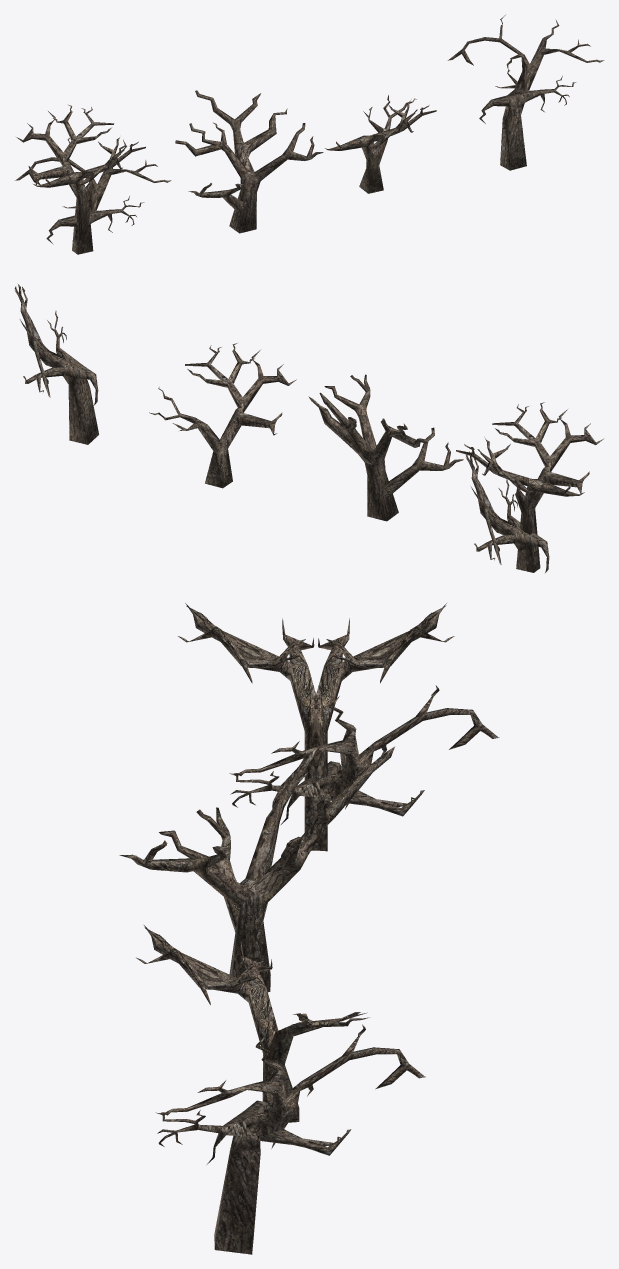
Rendered from 4_Trees.fbx.
The picture shows the model from 3 angles, top to bottom: view 1: azimuth 30°, elevation 25°; view 2: azimuth 150°, elevation 25°; view 3: azimuth 270°, elevation 25°; orthographic projection. The views are drawn at different scales.
Parts seen in each view (by area): view 1: Tree4, Tree3, Tree1, Tree2; view 2: Tree4, Tree3, Tree2, Tree1; view 3: Tree4, Tree3, Tree1, Tree2.
Boxes of the visible parts, box(x1,y1,x2,y2) form: Tree4: box(14, 105, 171, 254); Tree3: box(175, 90, 323, 233); Tree1: box(447, 15, 604, 170); Tree2: box(325, 95, 436, 193); Tree4: box(456, 402, 604, 572); Tree3: box(308, 374, 463, 521); Tree2: box(149, 343, 296, 488); Tree1: box(14, 283, 98, 444); Tree4: box(178, 603, 499, 851); Tree3: box(119, 746, 394, 992); Tree1: box(156, 1024, 425, 1254); Tree2: box(136, 925, 370, 1122).
Bounding box in the file's own units: 4329 × 1012 × 1339.
